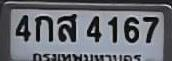1: (107, 16, 116, 42)
4: (15, 14, 30, 41), (86, 15, 100, 41)
6: (123, 16, 138, 42)
7: (142, 16, 158, 42)
A01: (34, 15, 52, 41)
A40: (56, 13, 76, 41)
